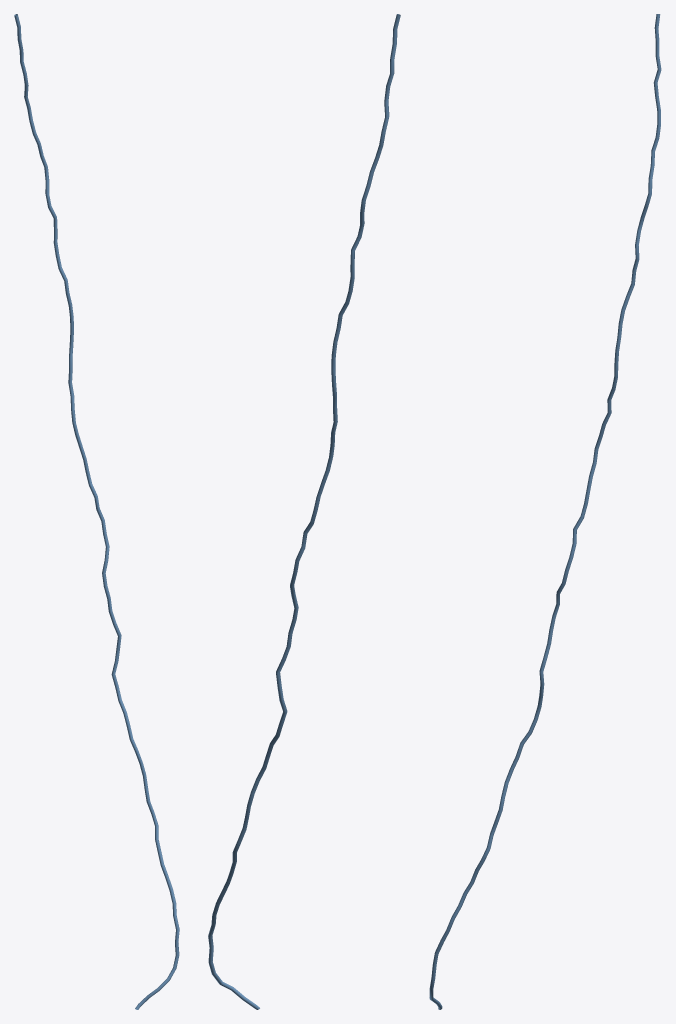
Rendered from sweep306.fbx.
3 renders of one model, left to right at view 1: azimuth 30°, elevation 25°; view 2: azimuth 210°, elevation 25°; view 3: azimuth 270°, elevation 25°, orthographic. The views are drawn at different scales.
Visible parts, largest first — view 1: sweep306; view 2: sweep306; view 3: sweep306.
Part boxes in pixels (bbox=[...]): sweep306: bbox=[14, 14, 179, 1009]; sweep306: bbox=[208, 14, 400, 1009]; sweep306: bbox=[429, 14, 661, 1009].
Size of the model in its own units: 0.3821 by 5.39 by 1.15.
